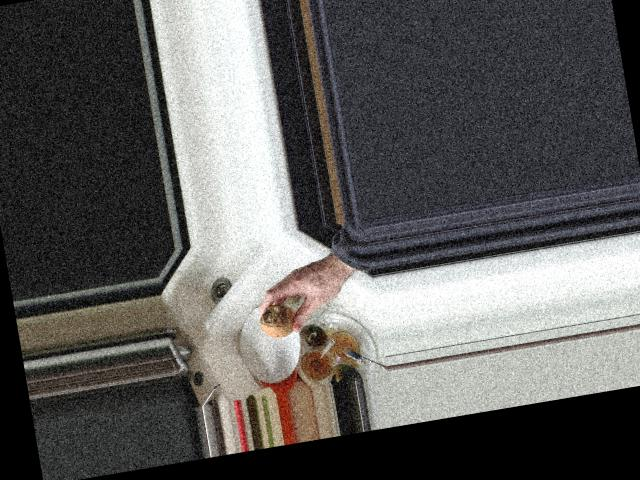sweet_potato: (255, 299, 305, 342)
